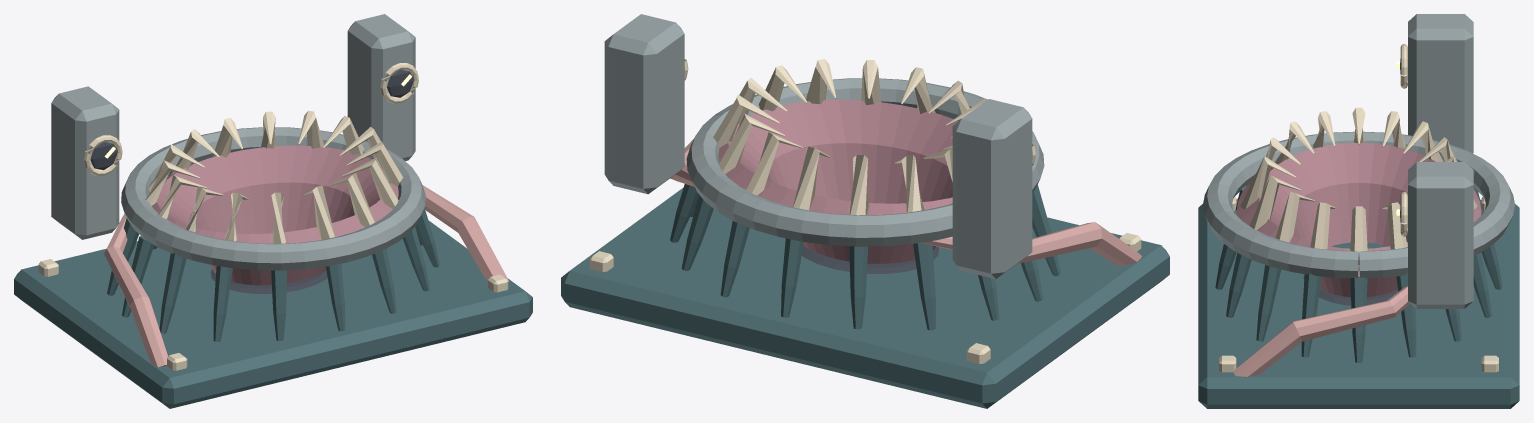
The model's file is drain_altar.glb.
The picture shows the model from 3 angles, left to right: view 1: azimuth 30°, elevation 25°; view 2: azimuth 150°, elevation 25°; view 3: azimuth 270°, elevation 25°; orthographic projection. The views are drawn at different scales.
Parts seen in each view (by area): view 1: drain_altar_petrol, drain_altar_worn, drain_altar_bruised, drain_altar_warm, drain_altar_suture, drain_altar_deep; view 2: drain_altar_petrol, drain_altar_worn, drain_altar_bruised, drain_altar_warm, drain_altar_suture, drain_altar_deep; view 3: drain_altar_petrol, drain_altar_worn, drain_altar_bruised, drain_altar_warm, drain_altar_suture, drain_altar_deep.
Boxes of the visible parts, box(x1,y1,x2,y2) form: drain_altar_petrol: box(14, 176, 532, 408); drain_altar_worn: box(51, 14, 425, 270); drain_altar_bruised: box(149, 145, 398, 285); drain_altar_warm: box(38, 63, 508, 370); drain_altar_suture: box(104, 185, 509, 367); drain_altar_deep: box(90, 69, 413, 293); drain_altar_petrol: box(561, 184, 1169, 408); drain_altar_worn: box(604, 14, 1044, 278); drain_altar_bruised: box(718, 99, 958, 263); drain_altar_warm: box(589, 59, 1141, 363); drain_altar_suture: box(670, 139, 1141, 265); drain_altar_deep: box(802, 246, 938, 273); drain_altar_petrol: box(1198, 185, 1519, 408); drain_altar_worn: box(1203, 14, 1514, 308); drain_altar_bruised: box(1236, 143, 1481, 297); drain_altar_warm: box(1219, 44, 1498, 372); drain_altar_suture: box(1233, 198, 1409, 376); drain_altar_deep: box(1303, 59, 1400, 305).
Bounding box in the file's own units: 3 × 1.7 × 2.2.
